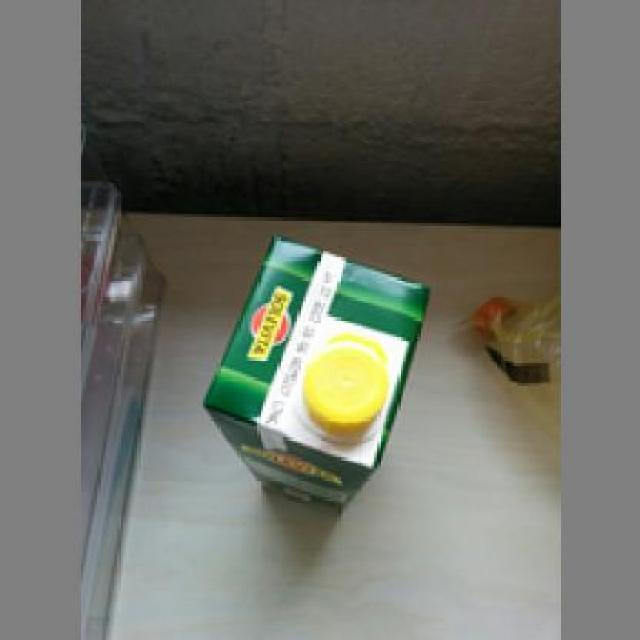Juice: (199, 226, 435, 508)
